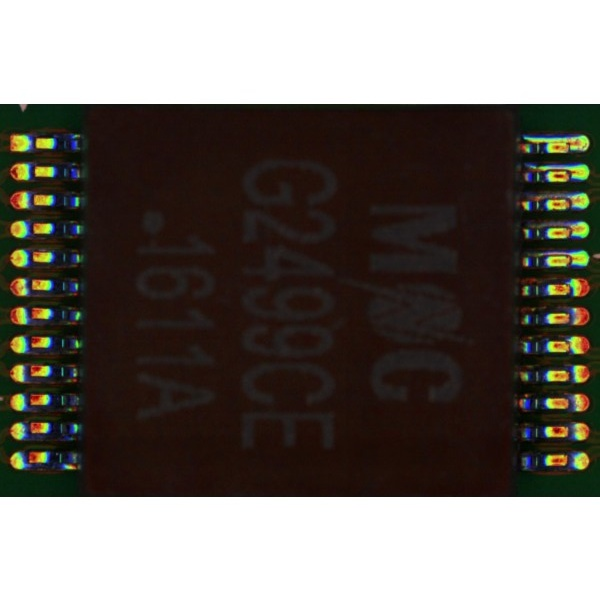Bad_podu: (558, 168, 576, 178), (560, 198, 578, 207), (561, 226, 578, 235), (560, 140, 577, 149), (563, 255, 576, 263)
Bad_qiaojiao: (524, 134, 570, 141), (526, 162, 571, 169), (530, 250, 570, 255)
